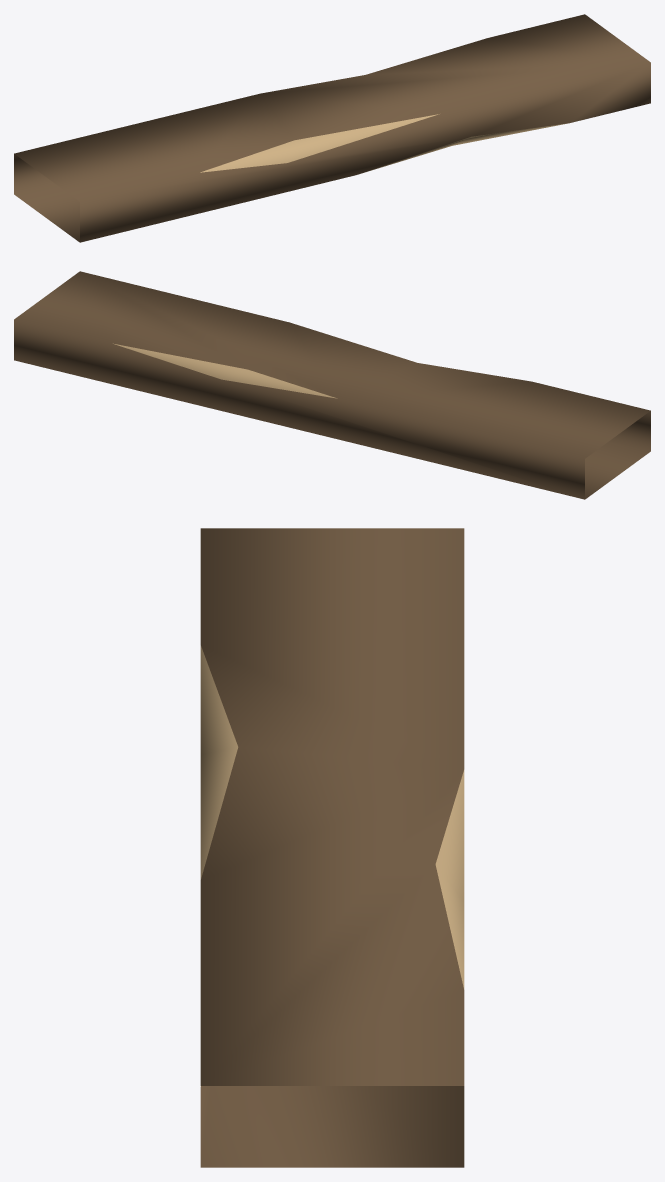
File: rpgpp_ag_wall_connector_bottom_01a_3m.fbx
3 renders of one model, top to bottom at view 1: azimuth 30°, elevation 25°; view 2: azimuth 150°, elevation 25°; view 3: azimuth 270°, elevation 25°, orthographic. The views are drawn at different scales.
Parts seen in each view (by area): view 1: rpgpp_ag_wall_connector_bottom_01a_3m; view 2: rpgpp_ag_wall_connector_bottom_01a_3m; view 3: rpgpp_ag_wall_connector_bottom_01a_3m.
Part boxes in pixels (x1,y1,x2,y2): rpgpp_ag_wall_connector_bottom_01a_3m: (14,14,650,242); rpgpp_ag_wall_connector_bottom_01a_3m: (14,271,650,499); rpgpp_ag_wall_connector_bottom_01a_3m: (200,528,464,1167).
Bounding box in the file's own units: 3 × 0.205 × 0.6.
